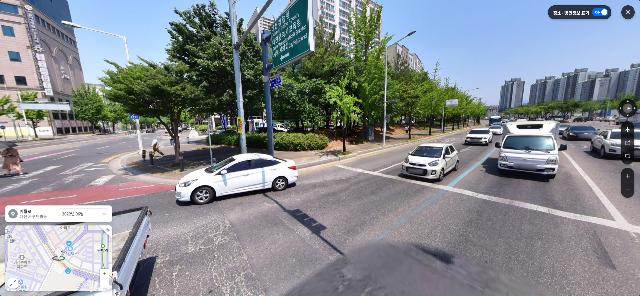other: (154, 1, 281, 147), (97, 54, 226, 166), (283, 32, 354, 137), (346, 1, 396, 142), (386, 62, 432, 139), (321, 76, 363, 152), (416, 61, 450, 135), (69, 81, 115, 135), (437, 79, 464, 132), (14, 109, 51, 140), (600, 96, 639, 122), (577, 97, 611, 121), (455, 94, 476, 129), (466, 99, 487, 127), (556, 100, 582, 122), (541, 102, 561, 120), (526, 103, 547, 120), (477, 106, 491, 125), (519, 105, 533, 120), (502, 106, 516, 120), (512, 105, 524, 119)
